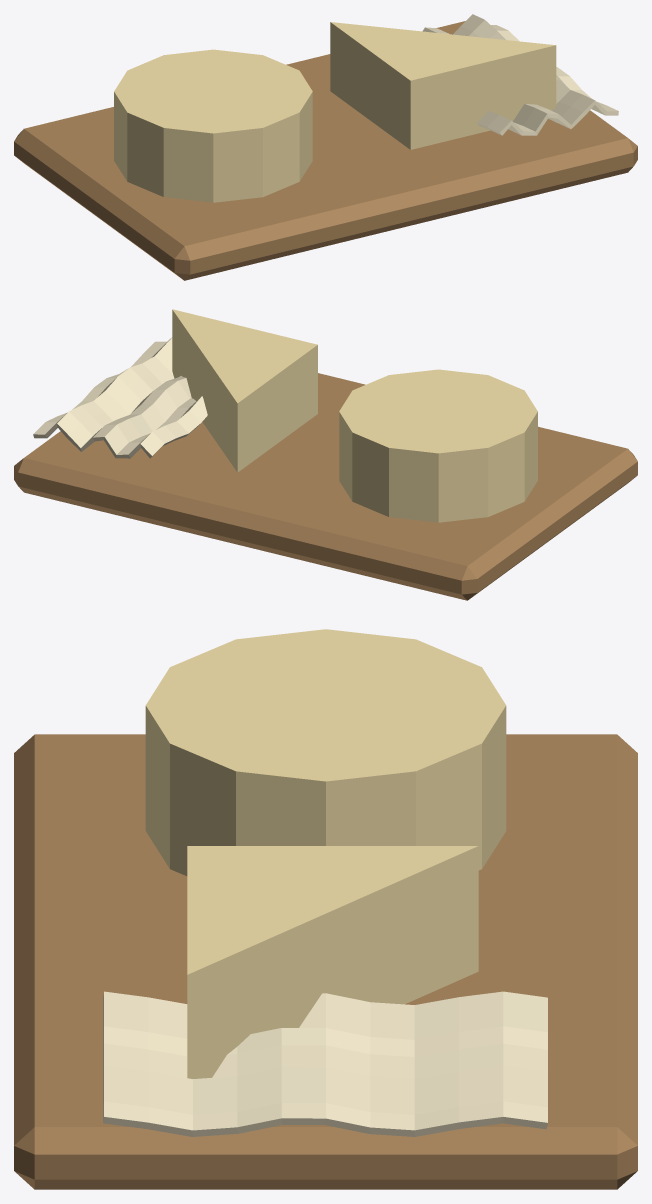
The picture shows the model from 3 angles, top to bottom: view 1: azimuth 30°, elevation 25°; view 2: azimuth 150°, elevation 25°; view 3: azimuth 270°, elevation 25°; orthographic projection. The views are drawn at different scales.
Visible parts, largest first — view 1: BA-0044 batched; view 2: BA-0044 batched; view 3: BA-0044 batched.
Boxes of the visible parts, x1,y1,x2,y2 form: BA-0044 batched: (14,14,637,280); BA-0044 batched: (14,309,637,600); BA-0044 batched: (14,629,637,1189).
Size of the model in its own units: 0.7 by 0.15 by 0.45.
